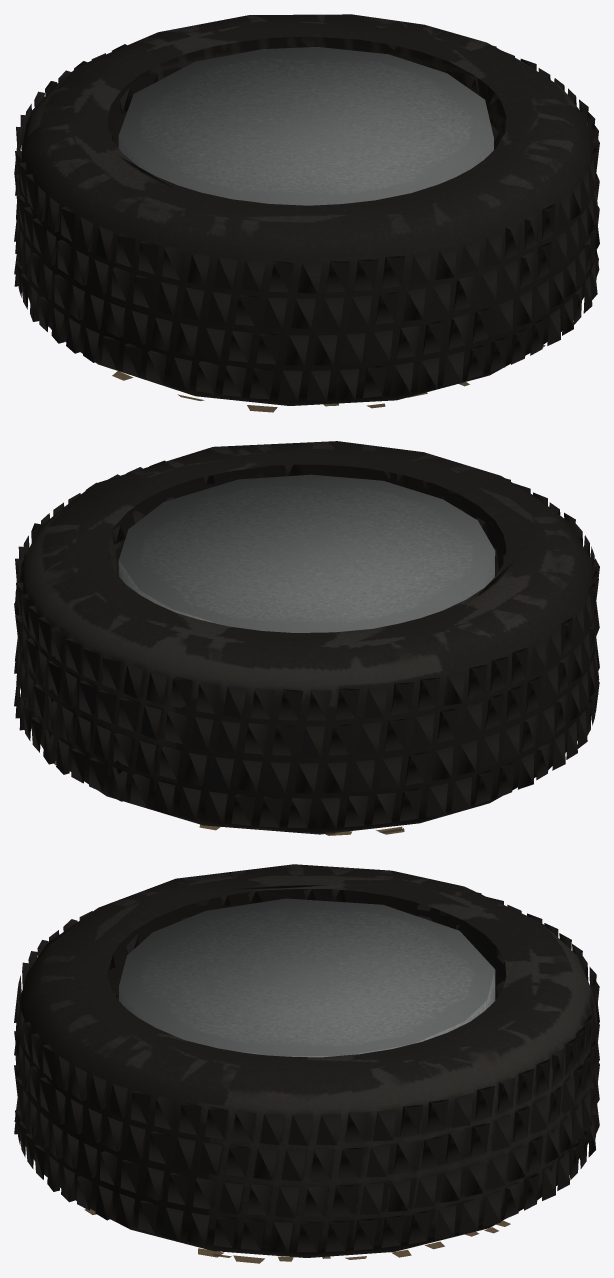
Rendered from pickup_wheel_front_right.obj.
3 renders of one model, top to bottom at view 1: azimuth 30°, elevation 25°; view 2: azimuth 150°, elevation 25°; view 3: azimuth 270°, elevation 25°, orthographic.
Parts seen in each view (by area): view 1: PIECE_L6_wheel_1.53_-1; view 2: PIECE_L6_wheel_1.53_-1; view 3: PIECE_L6_wheel_1.53_-1.
Part boxes in pixels (x1,y1,x2,y2): PIECE_L6_wheel_1.53_-1: (14,14,599,412); PIECE_L6_wheel_1.53_-1: (14,441,599,835); PIECE_L6_wheel_1.53_-1: (14,864,599,1263).
Size of the model in its own units: 0.72 by 0.2804 by 0.72.
Materials: 1 (1 with a texture image).
